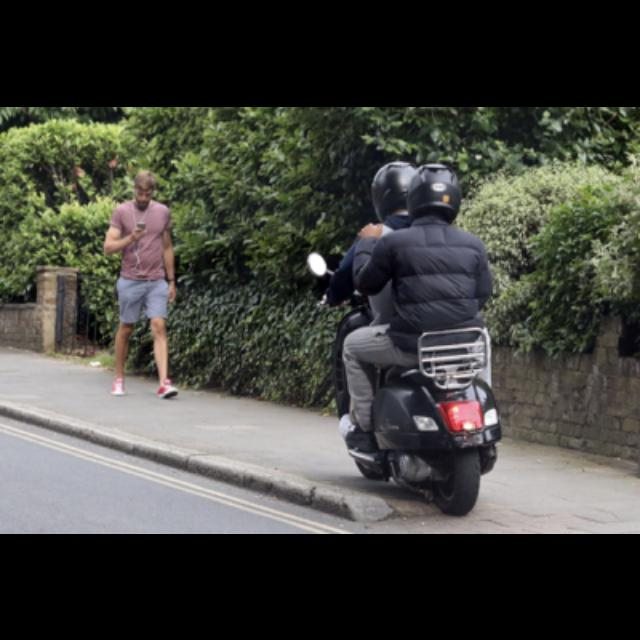With Helmet: (368, 157, 420, 223), (410, 157, 460, 219)
